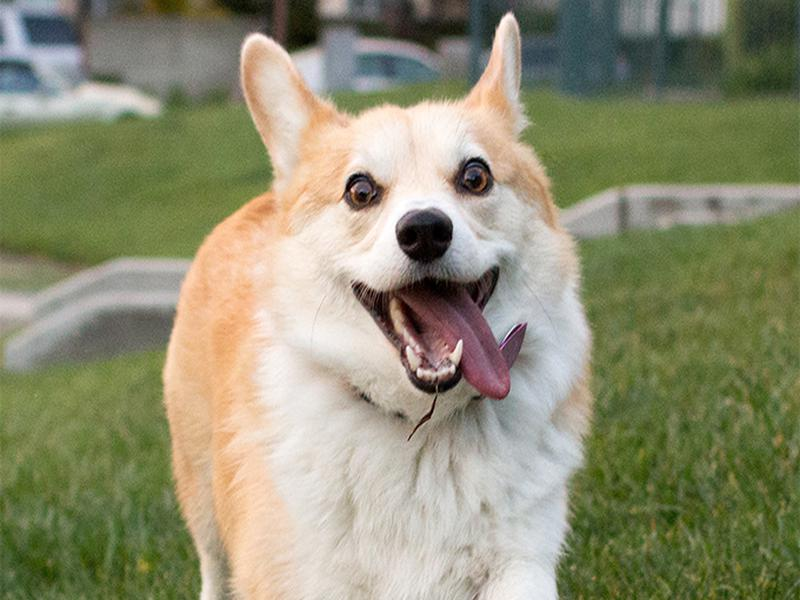corgi: (239, 9, 536, 399)
